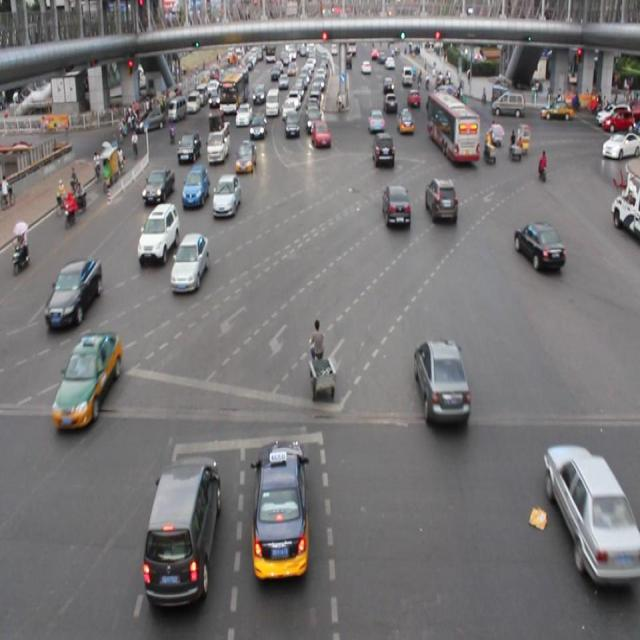car: (540, 442, 640, 579), (250, 436, 310, 584), (51, 332, 122, 431), (413, 338, 468, 427), (45, 258, 102, 322), (513, 218, 563, 270), (138, 202, 180, 260), (171, 232, 209, 289), (426, 175, 456, 223), (383, 182, 412, 230), (181, 162, 209, 208), (212, 173, 241, 217), (143, 167, 175, 200), (309, 116, 332, 152), (373, 130, 395, 167), (177, 130, 200, 163), (236, 140, 256, 173), (283, 108, 300, 139), (249, 111, 265, 141), (396, 108, 414, 133), (366, 109, 385, 132)
truck: (147, 458, 217, 604), (206, 108, 231, 166)
van: (426, 92, 478, 164)
